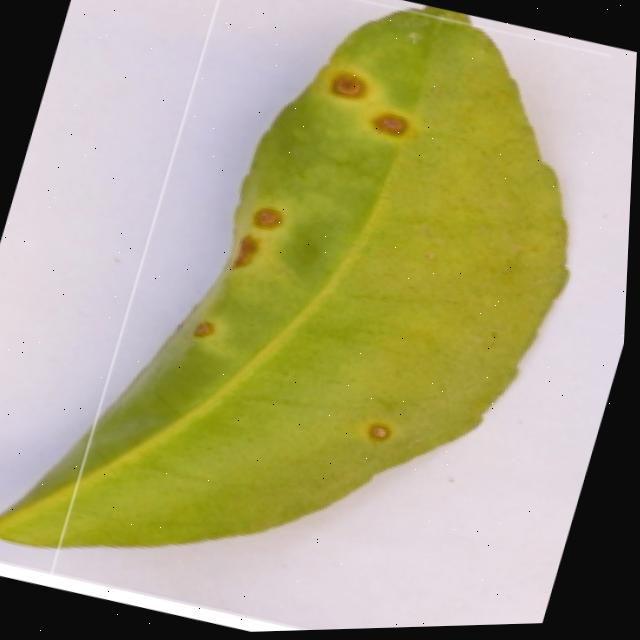canker: (0, 12, 566, 546), (179, 179, 309, 359), (303, 55, 430, 153), (350, 400, 404, 456)
